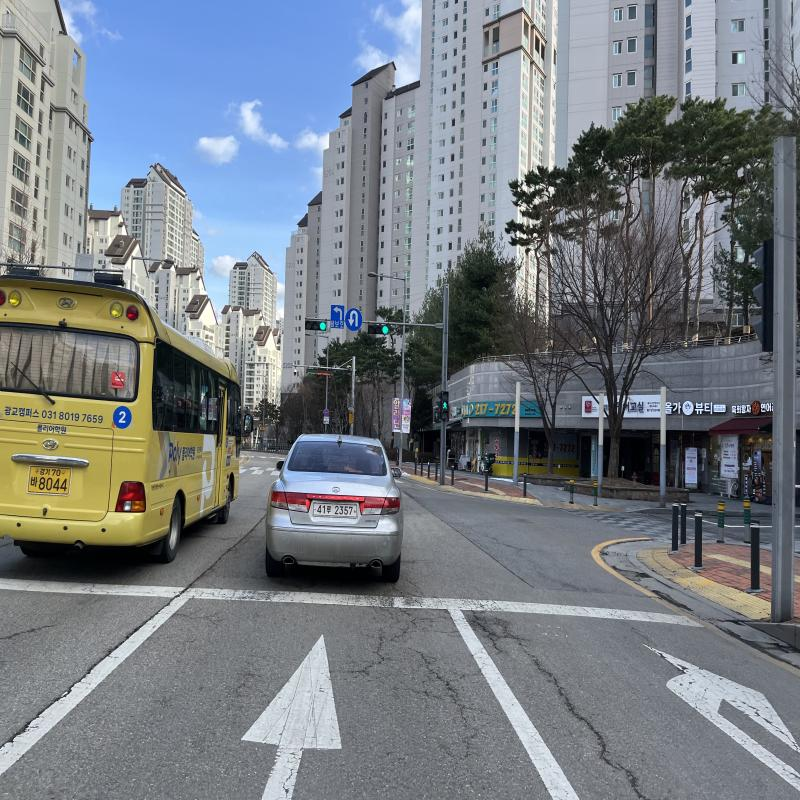green: (319, 322, 326, 330), (382, 326, 389, 334)
